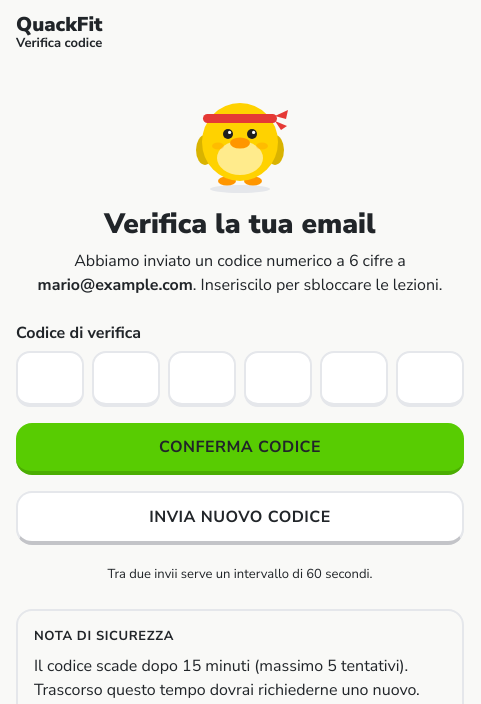
Scenario: verifica email › CODICE_NON_VALIDO: messaggio sotto il codice e caselle svuotate
Expected: the heading "Verifica la tua email" is shown, x1=104 y1=205 x2=376 y2=243
Click the field named "Cifra 1 di 6" at (50, 379), box x1=16 y1=351 x2=84 y2=407
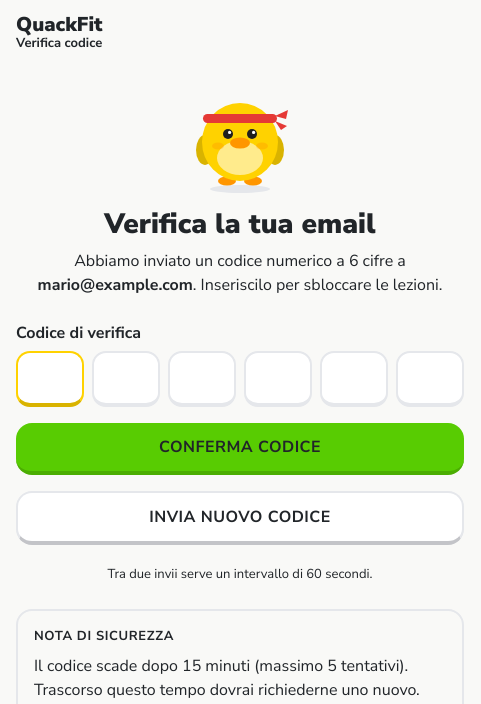
Type keys "000000"
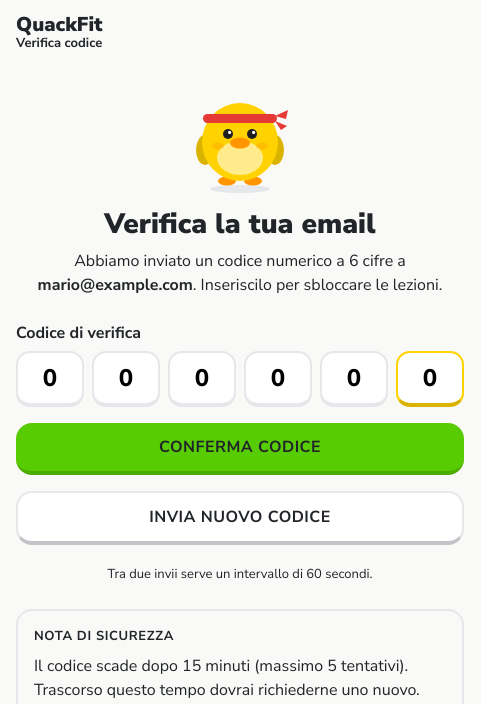
Click the button "Conferma codice" at (240, 449), box x1=16 y1=423 x2=464 y2=475
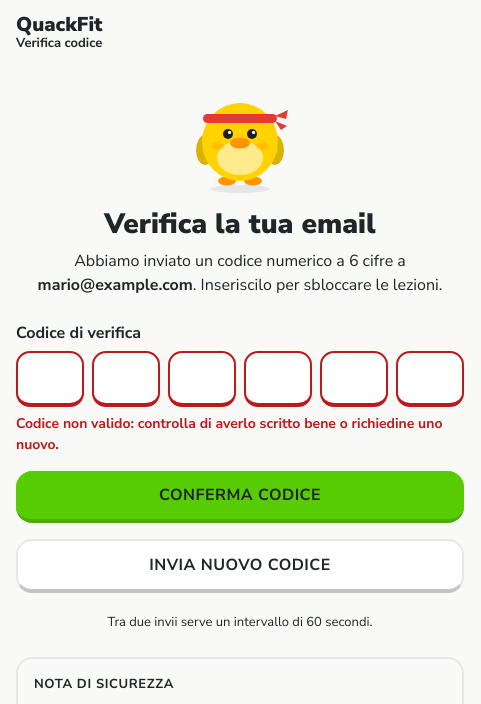
Expected: the text "Codice non valido: controlla di averlo scritto bene o richiedine uno nuovo." is shown, x1=16 y1=413 x2=464 y2=455
Expected: the field named "Cifra 1 di 6" is empty, x1=16 y1=351 x2=84 y2=407
